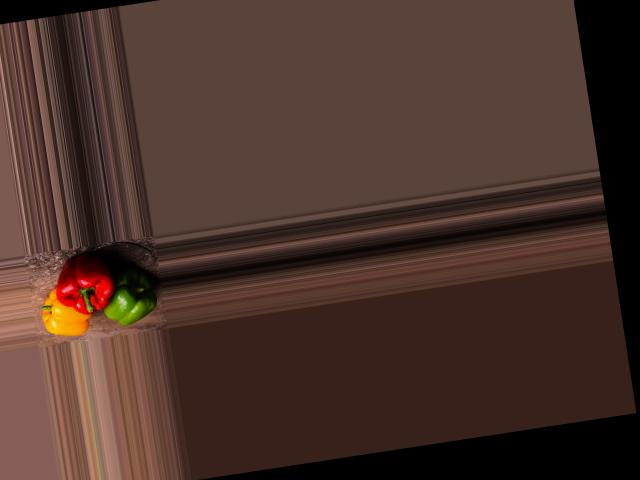bell_pepper: (38, 283, 91, 342)
